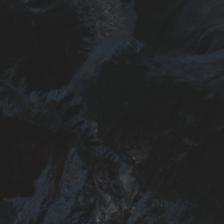landslides: (127, 42, 138, 55)
